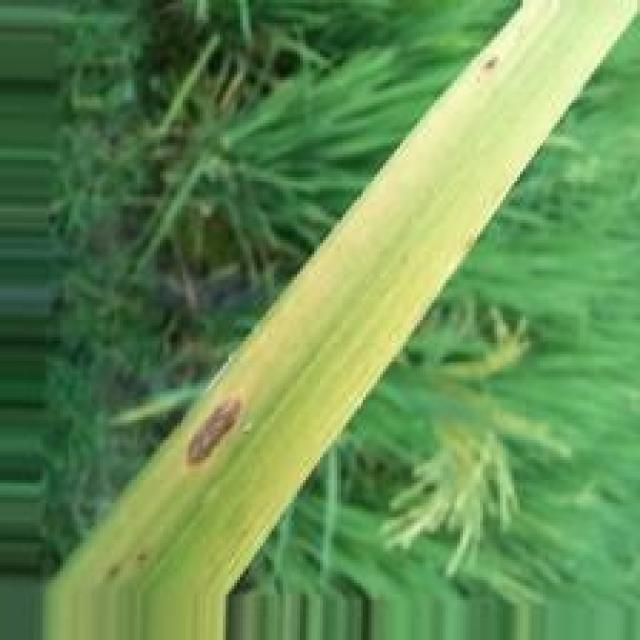Brown_Spot: (179, 390, 250, 469), (482, 52, 506, 78)
